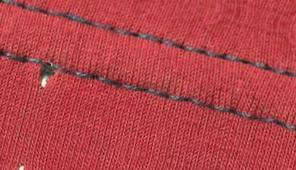hole: (37, 71, 55, 92)
